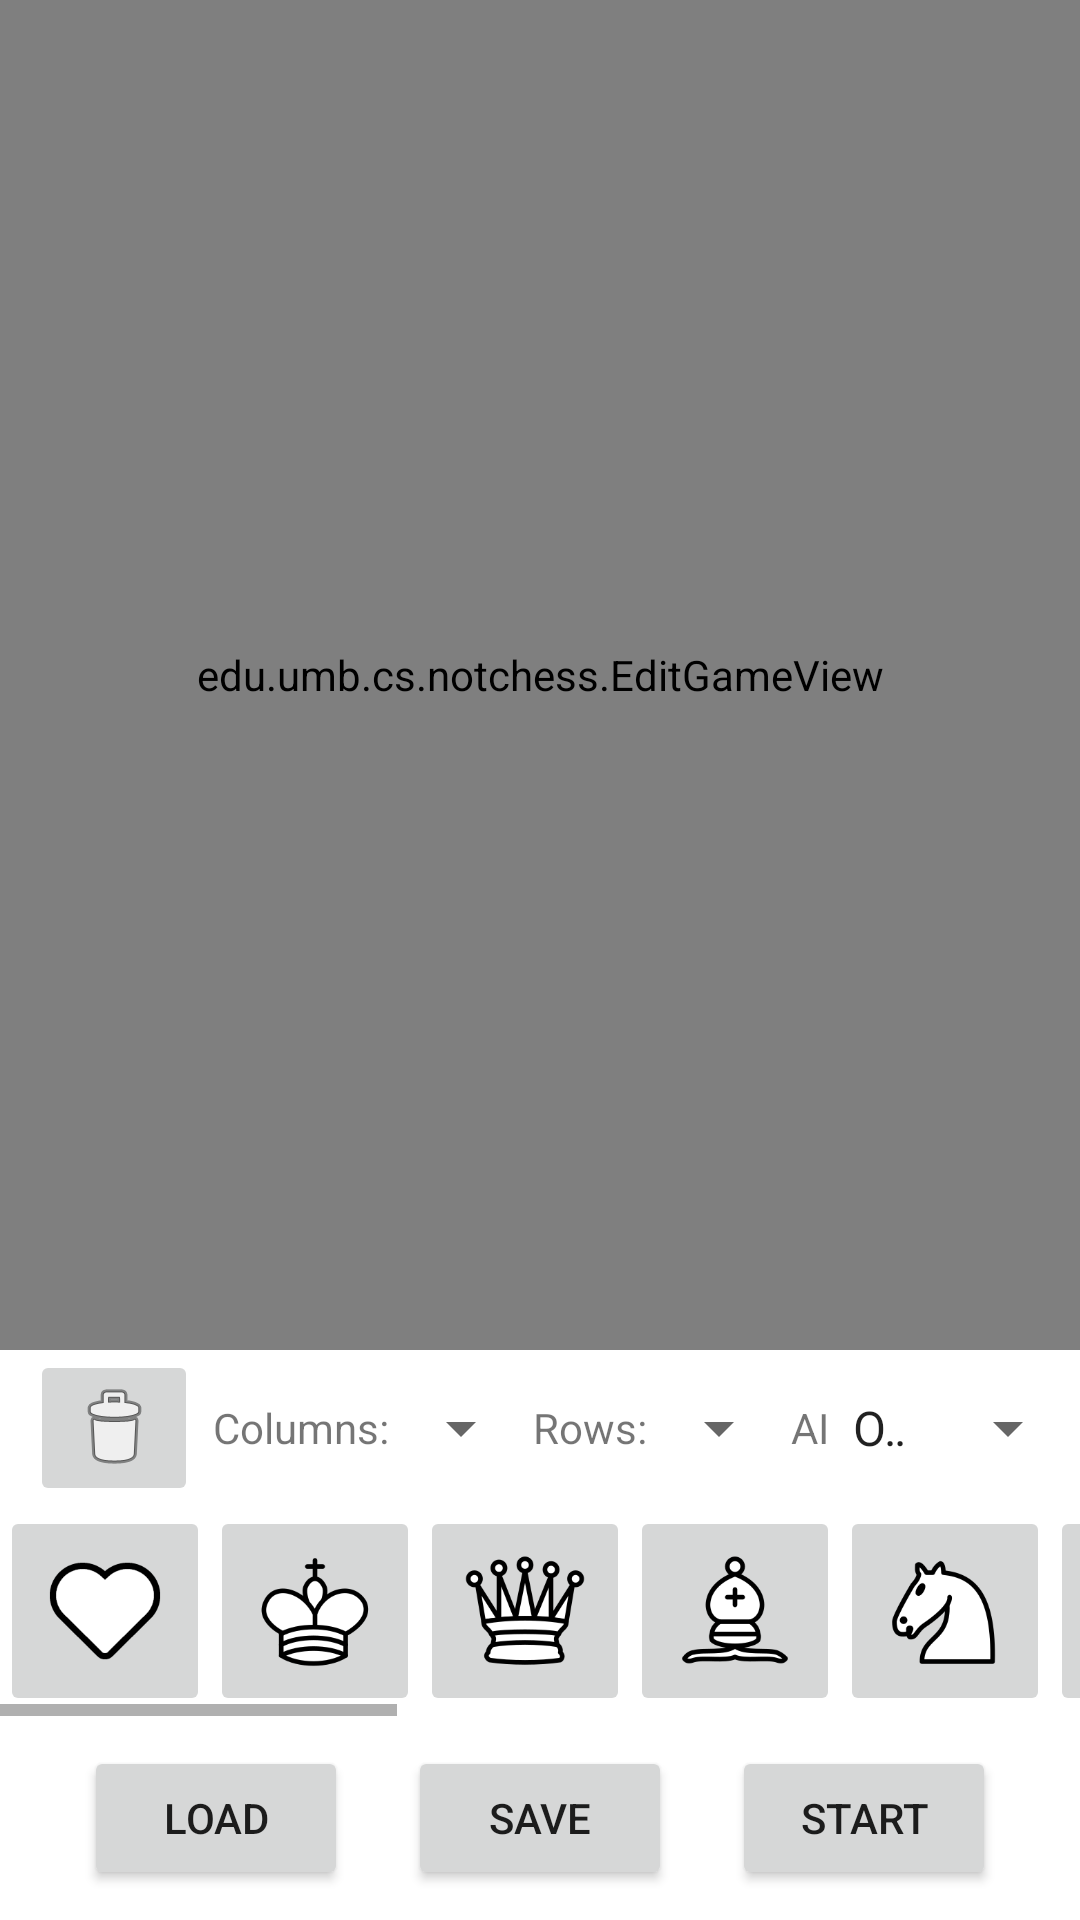

Screen size 1080w x 1920h. Icon name, then its box in pixels as (x1=x1, y1=y1, x2=x2, y2=y2):
bishop: (x1=642, y1=1524, x2=828, y2=1698)
delete: (x1=42, y1=1368, x2=186, y2=1488)
heart: (x1=12, y1=1524, x2=198, y2=1698)
king: (x1=222, y1=1524, x2=408, y2=1698)
knight: (x1=852, y1=1524, x2=1038, y2=1698)
queen: (x1=432, y1=1524, x2=618, y2=1698)
